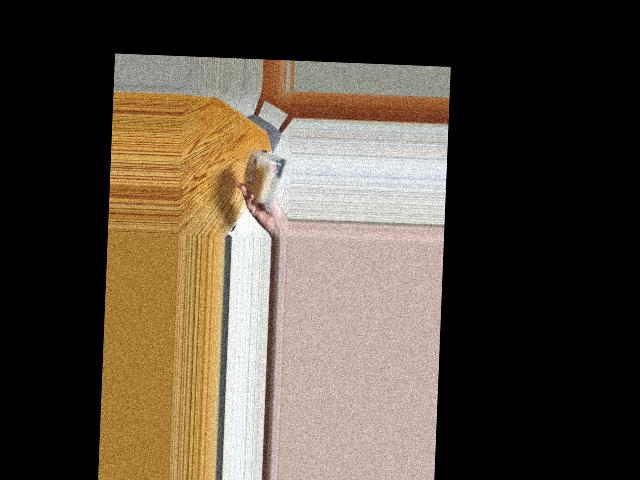cheese: (240, 146, 285, 206)
